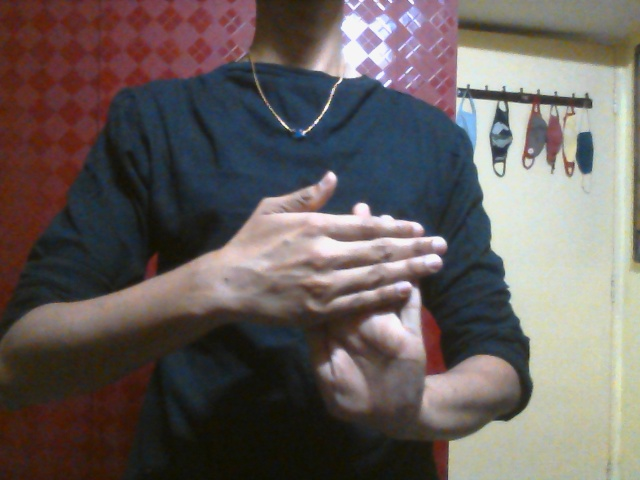H: (224, 169, 447, 429)
